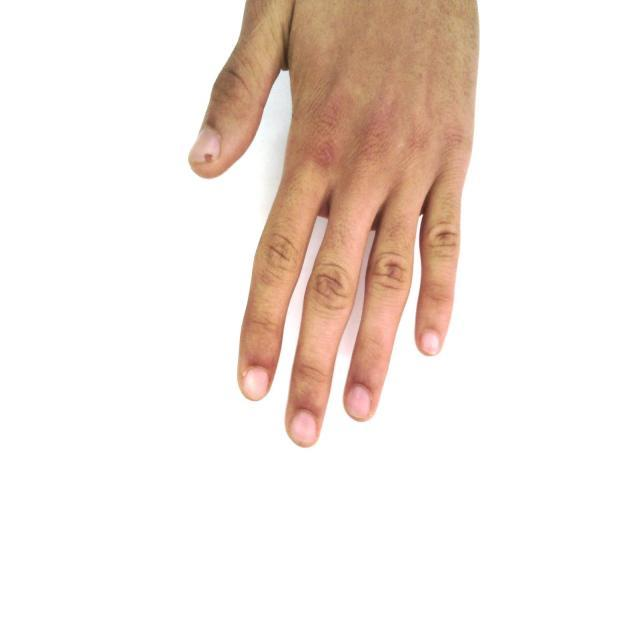Fingernail: (189, 128, 219, 162), (292, 411, 316, 444), (243, 368, 268, 398), (347, 386, 370, 418), (421, 331, 439, 354)
